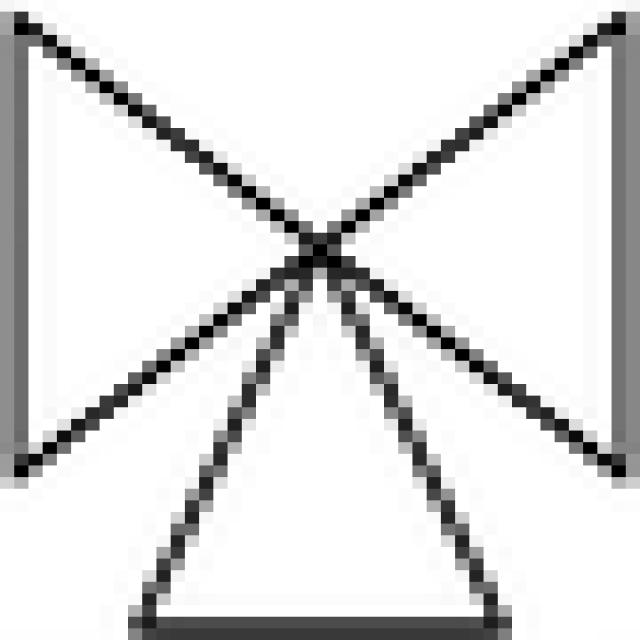3-way Valve: (16, 14, 626, 626)
